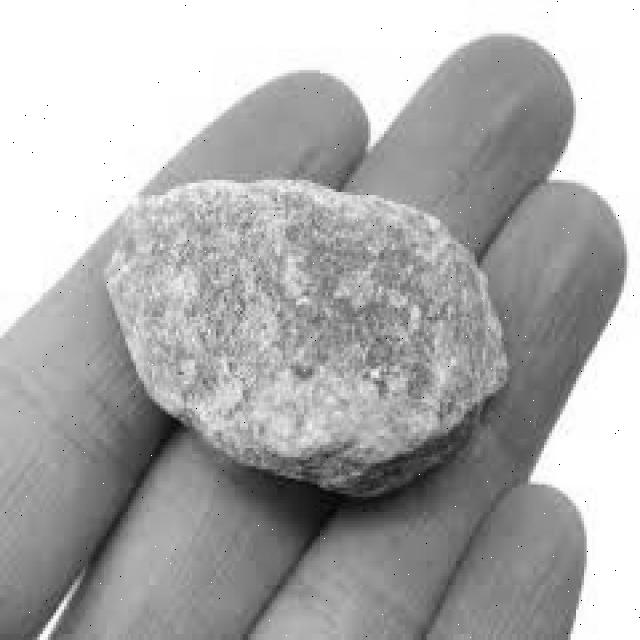Metamorphic: (114, 183, 507, 506)
